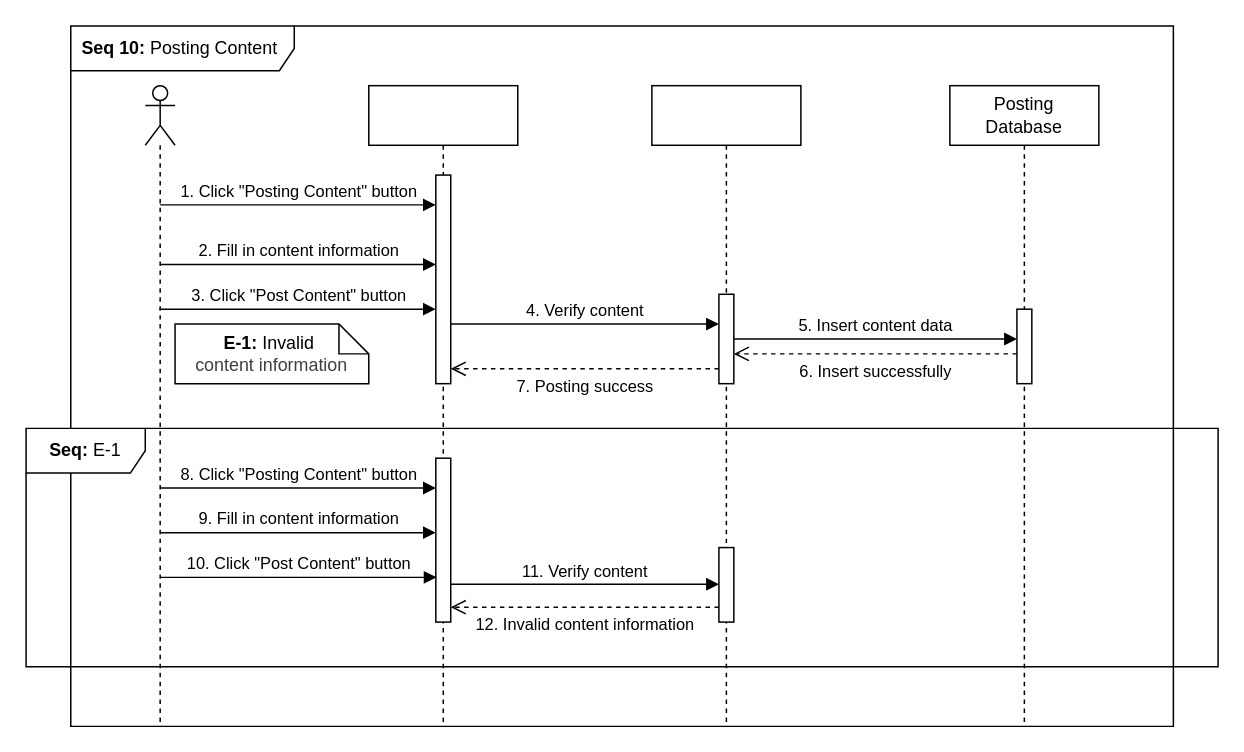
Some shapes in this 1244 by 752 pixel diagram are drawn without their labels. Here are the shapes that lost their labels. From the top down, the centre of each, then its label:
the point at 442,405: Posting Page
the point at 725,405: Posting Controller
